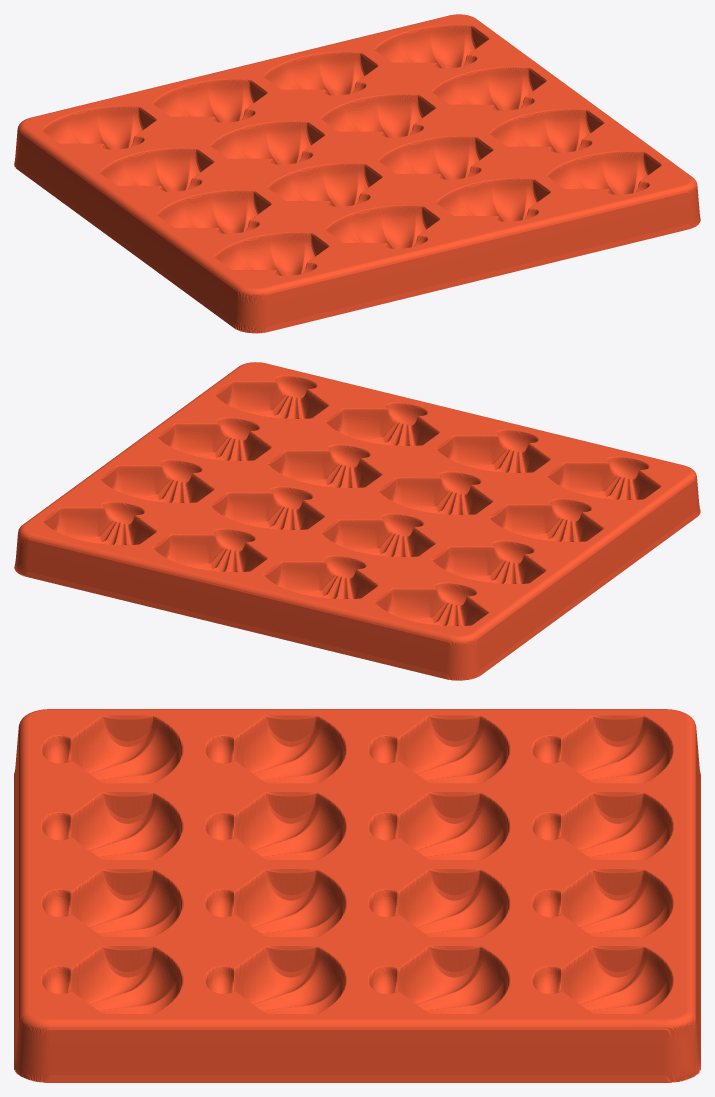
Rendered from mold.glb.
3 renders of one model, top to bottom at view 1: azimuth 30°, elevation 25°; view 2: azimuth 150°, elevation 25°; view 3: azimuth 270°, elevation 25°, orthographic. The views are drawn at different scales.
Parts seen in each view (by area): view 1: geometry_0; view 2: geometry_0; view 3: geometry_0.
Boxes of the visible parts, x1,y1,x2,y2 form: geometry_0: (14,14,700,333); geometry_0: (14,362,700,680); geometry_0: (14,709,700,1082).
Bounding box in the file's own units: 0.1905 × 0.0159 × 0.172.
